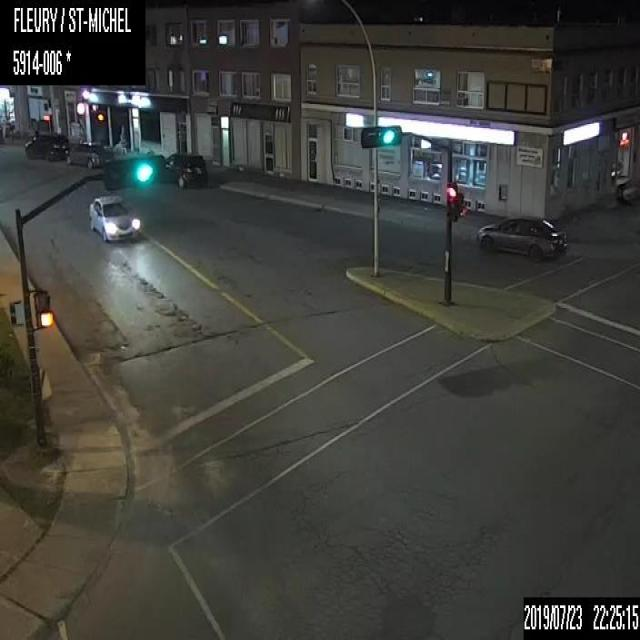vehicle: (476, 211, 569, 261), (87, 192, 139, 244), (155, 150, 210, 190), (22, 129, 68, 161), (61, 137, 106, 169)
